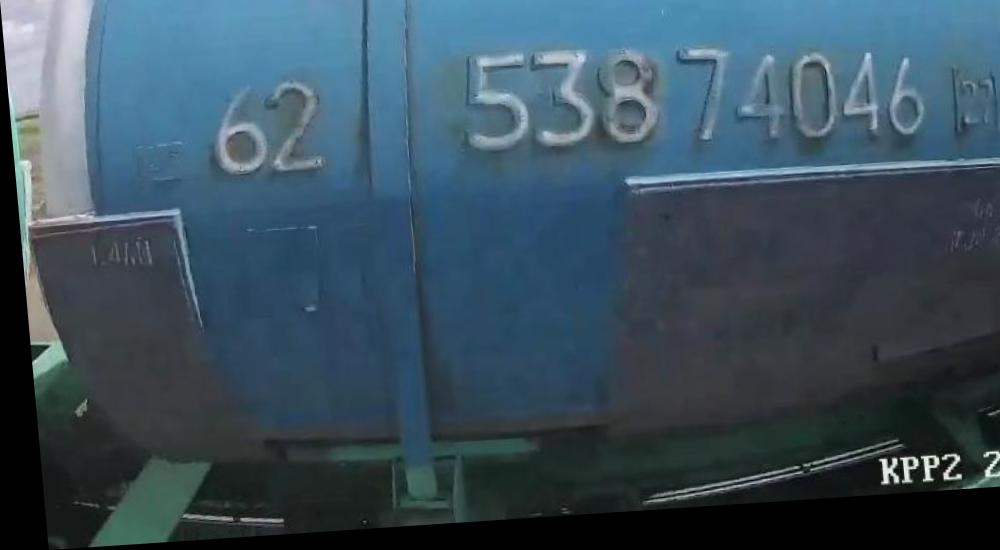Wagon-number: (449, 31, 929, 180)
